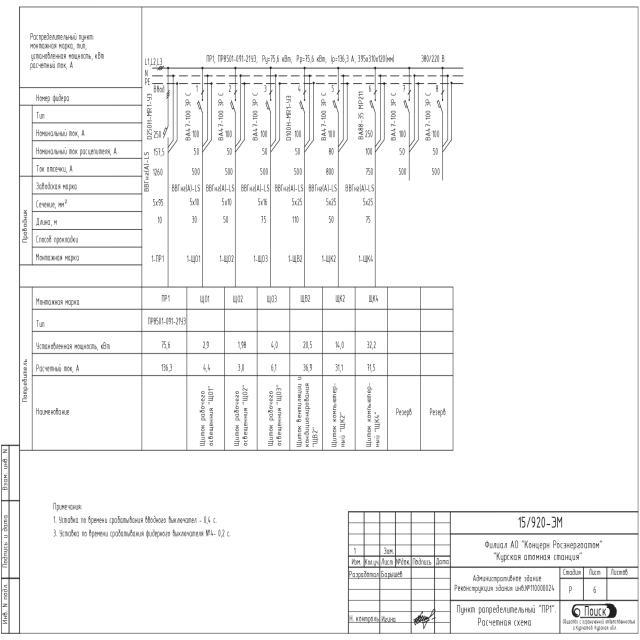-: (217, 54, 396, 64), (184, 92, 203, 176), (250, 92, 269, 176), (285, 93, 304, 176), (146, 94, 165, 176), (356, 91, 374, 176), (390, 92, 408, 177), (423, 92, 441, 177), (217, 92, 235, 176), (319, 92, 337, 176)
QF: (162, 90, 172, 147), (298, 89, 307, 114), (370, 89, 378, 114), (436, 96, 445, 113), (229, 96, 238, 113), (265, 97, 273, 115), (332, 96, 340, 114), (403, 97, 411, 114), (197, 96, 205, 113)
